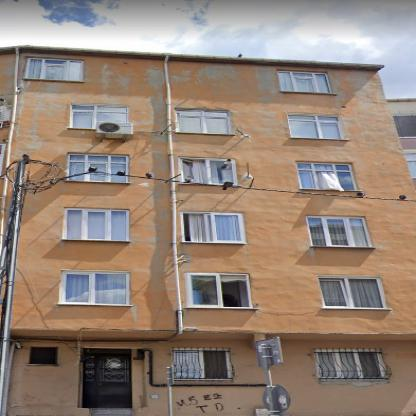door: (85, 355, 128, 407)
window: (63, 273, 127, 304), (65, 209, 127, 240), (320, 277, 382, 308), (192, 275, 249, 307), (307, 217, 368, 246), (316, 351, 380, 378), (184, 213, 242, 241), (173, 350, 228, 378), (298, 164, 355, 190), (287, 114, 342, 138), (182, 159, 234, 184), (69, 154, 126, 176), (177, 110, 229, 134), (72, 105, 126, 128), (26, 58, 82, 80), (278, 72, 329, 92), (70, 173, 125, 182), (393, 115, 415, 137), (404, 152, 415, 178), (86, 349, 128, 353)
